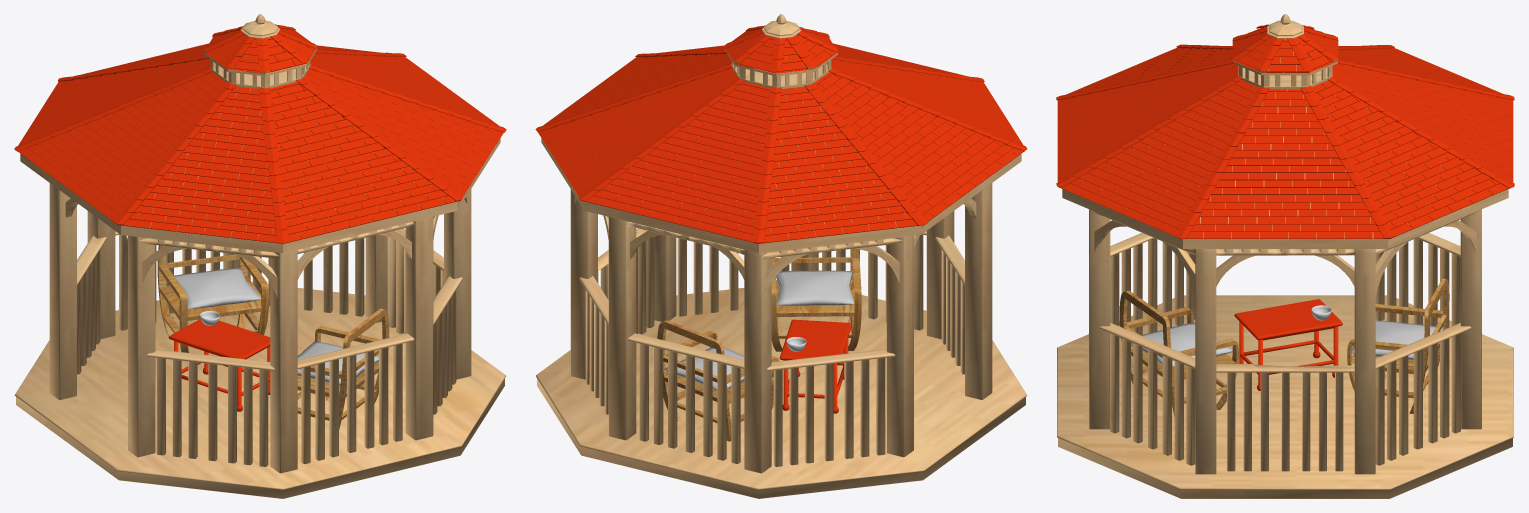
Rendered from Gazebo.fbx.
3 views of the same model, side by side, from view 1: azimuth 30°, elevation 25°; view 2: azimuth 150°, elevation 25°; view 3: azimuth 270°, elevation 25° (orthographic).
Parts seen in each view (by area): view 1: Body, Roof.005, Roof.007, Roof.001, Roof.006, Roof, Roof.008, Roof.002, Cube.003, RoofEdge.004, Cylinder, RoofEdge.003 (+11 smaller); view 2: Body, Roof.004, Roof.008, Roof.001, Roof.003, Roof, Roof.007, Roof.002, RoofEdge.002, RoofEdge.003, Cylinder, Cube.001 (+10 smaller); view 3: Body, Roof.002, Roof.006, Roof.003, Roof.004, Roof.005, Roof, Cylinder, RoofEdge.001, Cube.001, RoofEdge.002, RoofEdge.004 (+8 smaller).
Part boxes in pixels (box(x1,y1,x2,y2)): Body: box(14, 183, 505, 498); Roof.005: box(270, 82, 460, 242); Roof.007: box(119, 86, 282, 243); Roof.001: box(18, 72, 226, 224); Roof.006: box(304, 69, 503, 196); Roof: box(20, 14, 500, 253); Roof.008: box(18, 58, 210, 145); Roof.002: box(310, 53, 498, 125); Cube.003: box(157, 245, 269, 352); RoofEdge.004: box(259, 77, 462, 243); Cylinder: box(168, 319, 270, 411); RoofEdge.003: box(14, 67, 236, 224); Body: box(536, 183, 1027, 498); Roof.004: box(585, 81, 770, 243); Roof.008: box(759, 86, 918, 243); Roof.001: box(814, 72, 1023, 222); Roof.003: box(538, 68, 737, 196); Roof: box(541, 14, 1021, 253); Roof.007: box(831, 59, 1023, 145); Roof.002: box(543, 53, 731, 125); RoofEdge.002: box(578, 77, 781, 243); RoofEdge.003: box(804, 67, 1027, 225); Cylinder: box(779, 319, 851, 413); Cube.001: box(771, 248, 861, 351); Body: box(1057, 209, 1513, 498); Roof.002: box(1187, 89, 1389, 238); Roof.006: box(1058, 80, 1258, 236); Roof.003: box(1312, 80, 1509, 238); Roof.004: box(1332, 63, 1513, 182); Roof.005: box(1057, 63, 1238, 182); Roof: box(1058, 14, 1508, 248); Cylinder: box(1234, 299, 1342, 390); RoofEdge.001: box(1176, 86, 1394, 238); Cube.001: box(1119, 290, 1238, 417); RoofEdge.002: box(1327, 59, 1514, 188); RoofEdge.004: box(1056, 60, 1242, 187).
Bounding box in the file's own units: 1035 × 971 × 1035.
